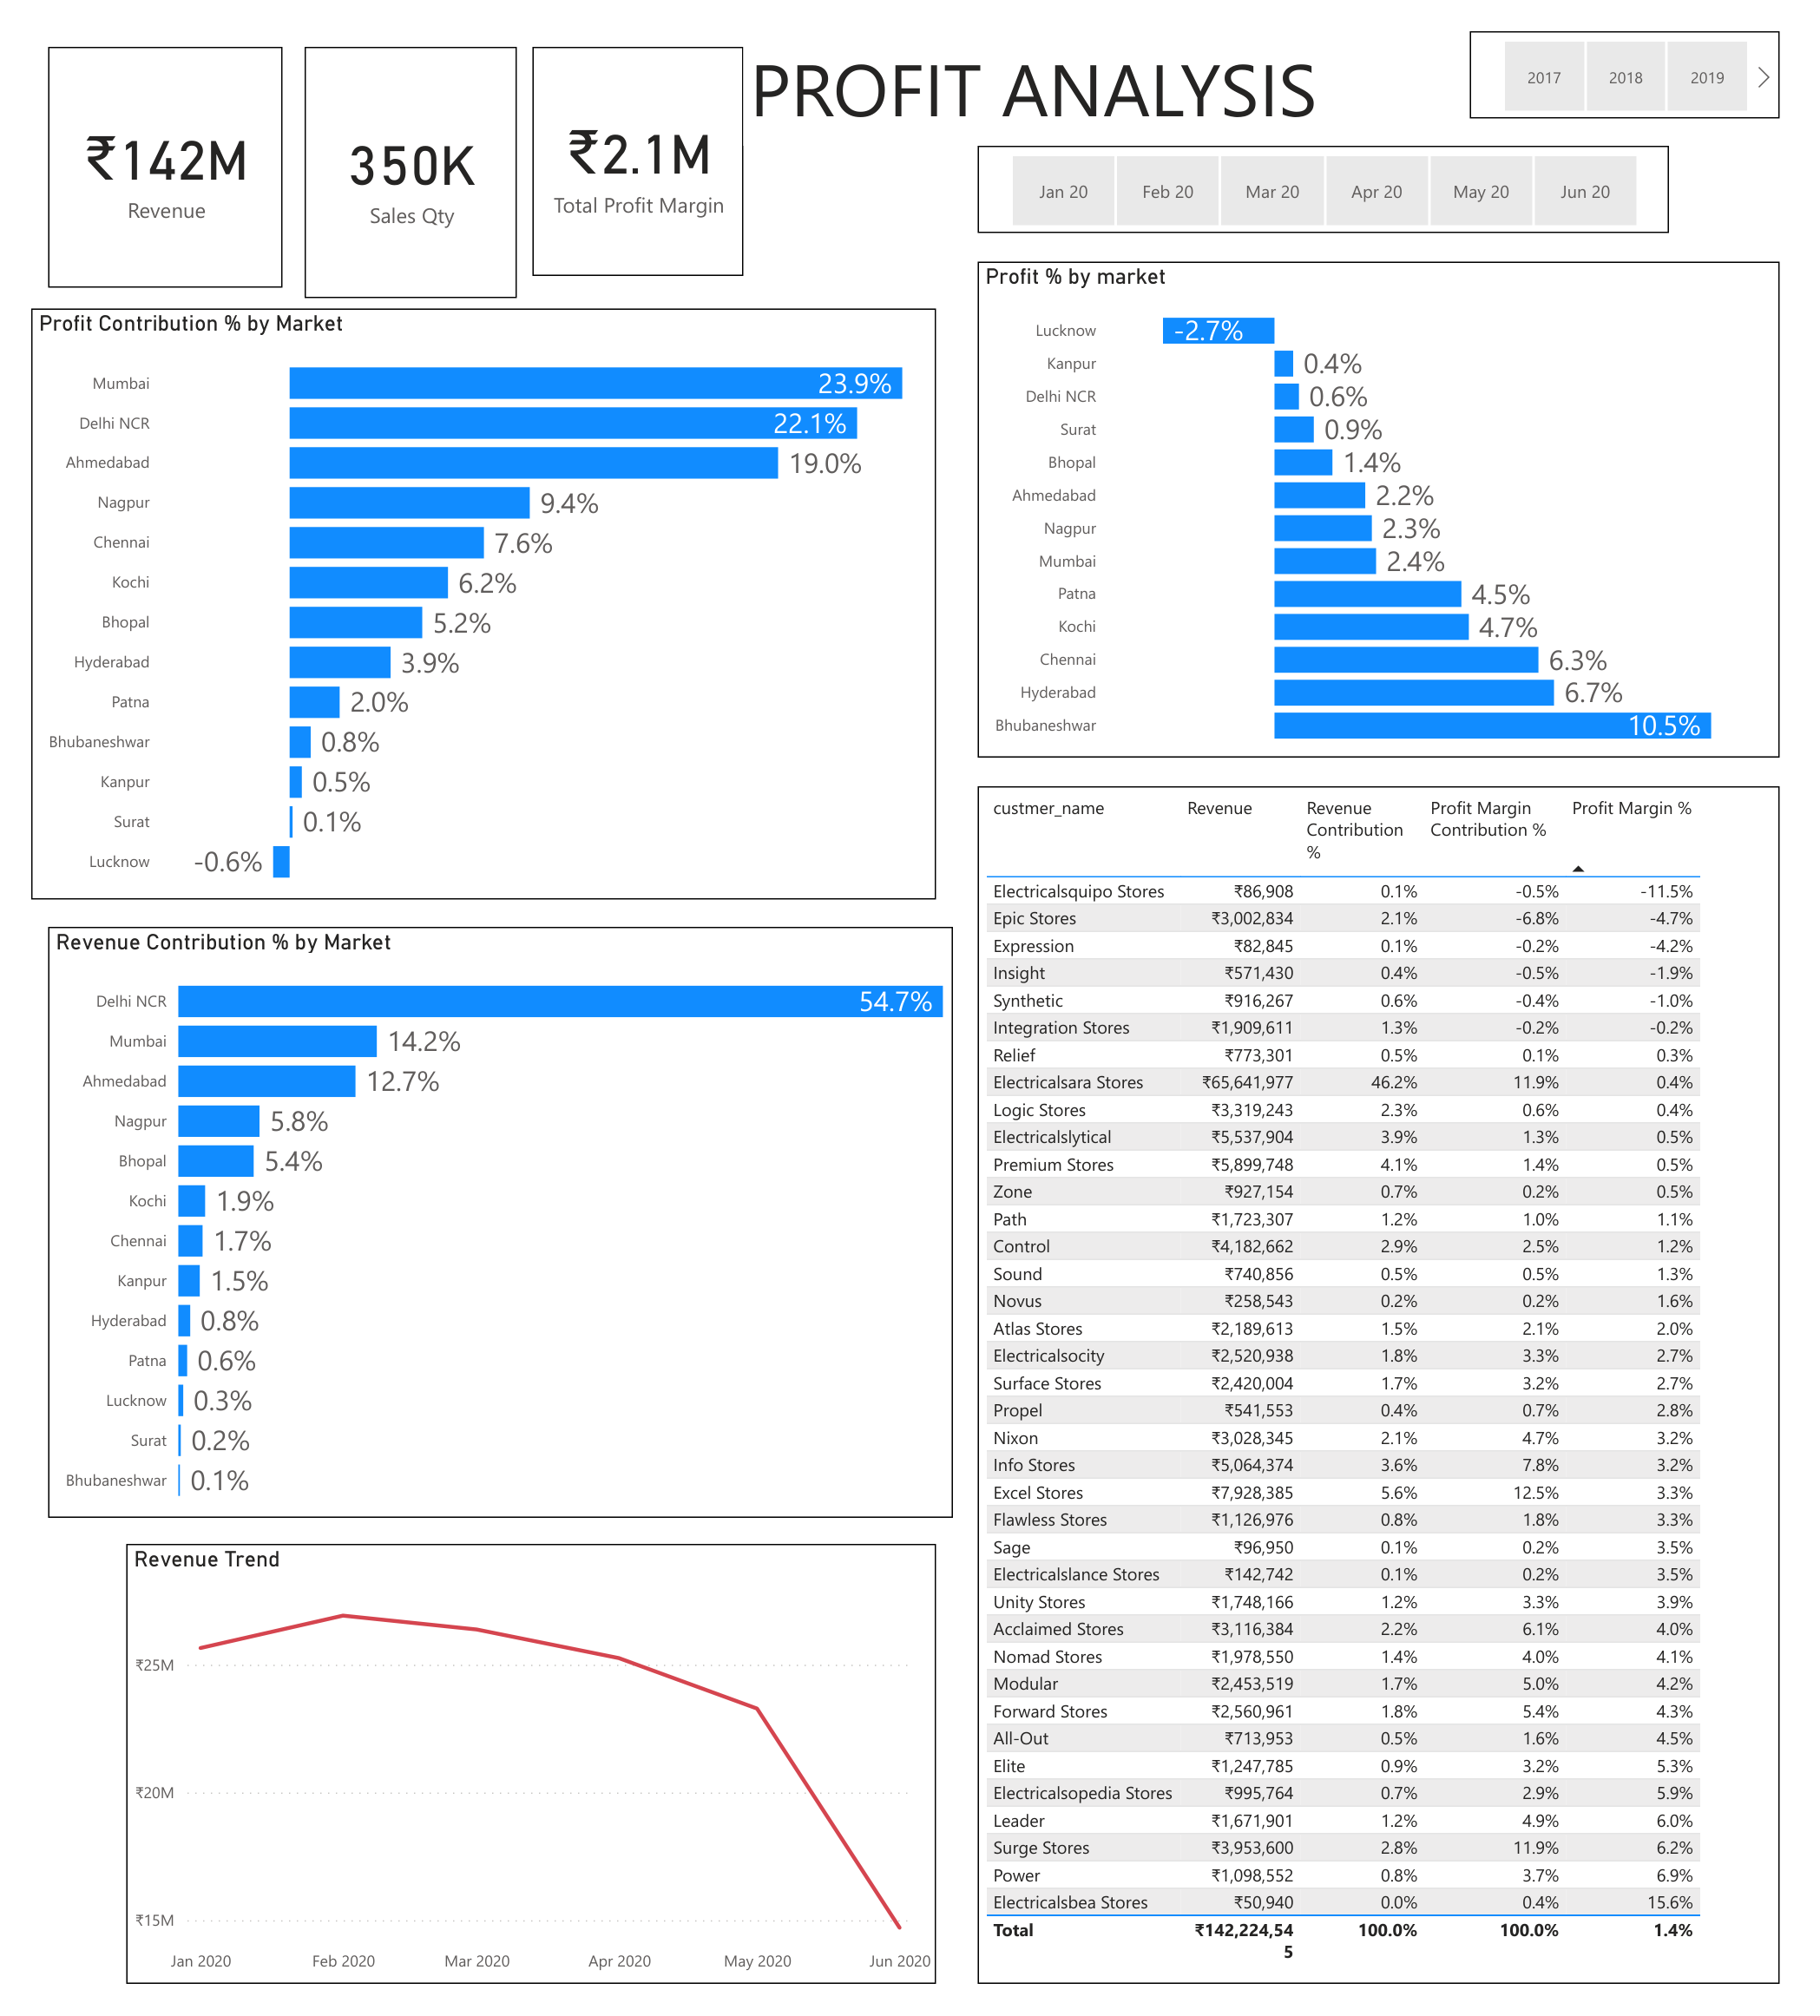

Layout of this report page (visuals, bound fields, positions):
{"tool":"powerbi","page":{"name":"Profit Analysis","canvas":[1350,1500],"ordinal":1},"visuals":[{"type":"card","fields":{"Values":["BaseMeasures (2).Revenue"]},"box":[13.3,11.7,180,185],"z":0},{"type":"card","fields":{"Values":["BaseMeasures (2).Sales Qty"]},"box":[210,11.7,163.3,193.3],"z":1000},{"type":"barChart","title":"Profit % by market","fields":{"Y":["BaseMeasures (2).Profit Margin %"],"Category":["sales markets.markets_name"]},"box":[726.7,176.7,616.7,381.7],"z":2000},{"type":"barChart","title":"Profit Contribution % by Market","fields":{"Y":["BaseMeasures (2).Profit Margin Contribution %"],"Category":["sales markets.markets_name"]},"box":[0,213.3,695,453.3],"z":3000},{"type":"slicer","fields":{"Values":["sales date.year"]},"box":[1105,0,238.3,66.7],"z":4000},{"type":"slicer","fields":{"Values":["sales date.cy_date"]},"box":[726.7,88.3,531.7,66.7],"z":5000},{"type":"tableEx","title":"Top 5 Customers","fields":{"Values":["sales customers.custmer_name","BaseMeasures (2).Revenue","BaseMeasures (2).Revenue Contribution %","BaseMeasures (2).Profit Margin Contribution %","BaseMeasures (2).Profit Margin %"]},"box":[726.7,580,616.7,920],"z":6000},{"type":"lineChart","title":"Revenue Trend","fields":{"Y":["BaseMeasures (2).Revenue"],"Category":["sales date.cy_date"]},"box":[73.3,1161.7,621.7,338.3],"z":7000},{"type":"card","fields":{"Values":["BaseMeasures (2).Total Profit Margin"]},"box":[385,11.7,161.7,176.7],"z":8000},{"type":"barChart","title":"Revenue Contribution % by Market","fields":{"Y":["BaseMeasures (2).Revenue Contribution %"],"Category":["sales markets.markets_name"]},"box":[13.3,688.3,695,453.3],"z":9000},{"type":"textbox","box":[546.7,0,543.3,88.3],"z":9001}]}

Visuals, with their boxes in screenshot pixels (x1, y1, x2, y2), scaled from the page's 1350x1500 canvas onto the 1820x2016 screenshot:
card - BaseMeasures (2).Revenue: [18, 16, 260, 265]
card - BaseMeasures (2).Sales Qty: [283, 16, 503, 275]
"Profit % by market" barChart: [980, 238, 1811, 751]
"Profit Contribution % by Market" barChart: [0, 286, 937, 896]
slicer - sales date.year: [1489, 0, 1811, 89]
slicer - sales date.cy_date: [980, 119, 1697, 208]
"Top 5 Customers" tableEx: [980, 779, 1811, 2015]
"Revenue Trend" lineChart: [99, 1561, 937, 2015]
card - BaseMeasures (2).Total Profit Margin: [519, 16, 737, 253]
"Revenue Contribution % by Market" barChart: [18, 925, 955, 1534]
textbox: [737, 0, 1469, 119]
